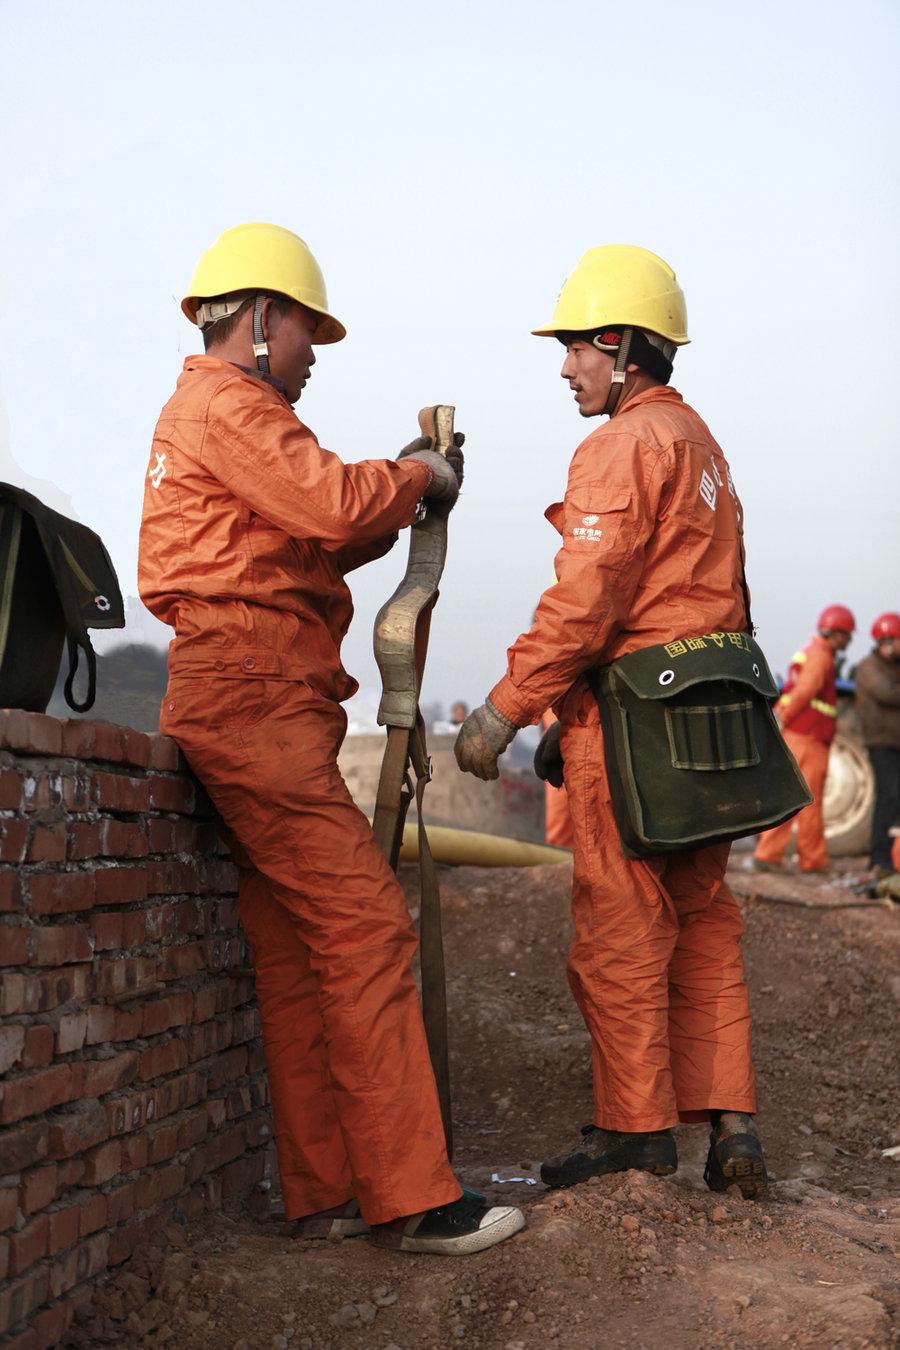safetyhat: (137, 219, 478, 1209), (494, 190, 803, 1190)
